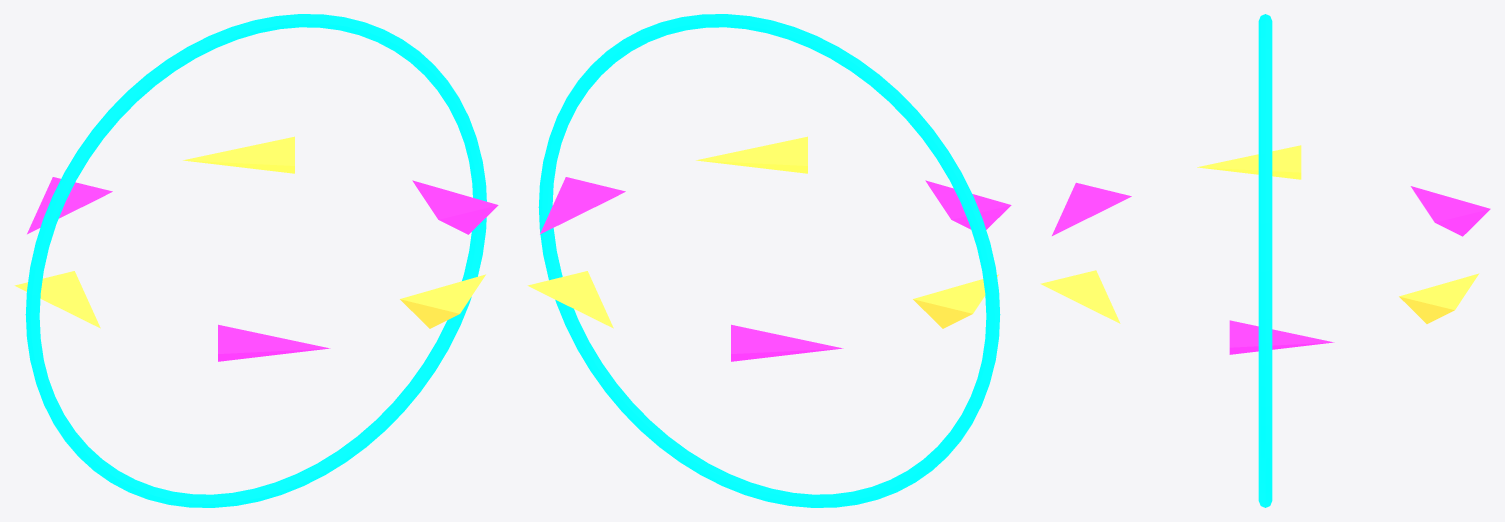
Rendered from orbital_saw_array.glb.
3 views of the same model, side by side, from view 1: azimuth 30°, elevation 25°; view 2: azimuth 150°, elevation 25°; view 3: azimuth 270°, elevation 25° (orthographic). The views are drawn at different scales.
Visible parts, largest first — view 1: OrbitalSawArrayGuideRing, OrbitalSawArrayBlade4, OrbitalSawArrayBlade1, OrbitalSawArrayBlade5, OrbitalSawArrayBlade0, OrbitalSawArrayBlade3, OrbitalSawArrayBlade2; view 2: OrbitalSawArrayGuideRing, OrbitalSawArrayBlade2, OrbitalSawArrayBlade5, OrbitalSawArrayBlade1, OrbitalSawArrayBlade0, OrbitalSawArrayBlade3, OrbitalSawArrayBlade4; view 3: OrbitalSawArrayGuideRing, OrbitalSawArrayBlade2, OrbitalSawArrayBlade1, OrbitalSawArrayBlade4, OrbitalSawArrayBlade5, OrbitalSawArrayBlade0, OrbitalSawArrayBlade3.
Boxes of the visible parts, x1=… form: OrbitalSawArrayGuideRing: x1=25, y1=14, x2=486, y2=507; OrbitalSawArrayBlade4: x1=218, y1=324, x2=330, y2=361; OrbitalSawArrayBlade1: x1=183, y1=136, x2=294, y2=173; OrbitalSawArrayBlade5: x1=400, y1=274, x2=485, y2=328; OrbitalSawArrayBlade0: x1=412, y1=180, x2=498, y2=234; OrbitalSawArrayBlade3: x1=14, y1=271, x2=100, y2=328; OrbitalSawArrayBlade2: x1=27, y1=177, x2=112, y2=234; OrbitalSawArrayGuideRing: x1=538, y1=14, x2=1000, y2=507; OrbitalSawArrayBlade2: x1=731, y1=324, x2=843, y2=361; OrbitalSawArrayBlade5: x1=696, y1=136, x2=807, y2=173; OrbitalSawArrayBlade1: x1=527, y1=271, x2=613, y2=328; OrbitalSawArrayBlade0: x1=540, y1=177, x2=625, y2=234; OrbitalSawArrayBlade3: x1=913, y1=274, x2=998, y2=328; OrbitalSawArrayBlade4: x1=925, y1=180, x2=1011, y2=229; OrbitalSawArrayGuideRing: x1=1258, y1=14, x2=1272, y2=507; OrbitalSawArrayBlade2: x1=1410, y1=186, x2=1490, y2=236; OrbitalSawArrayBlade1: x1=1399, y1=273, x2=1479, y2=323; OrbitalSawArrayBlade4: x1=1052, y1=182, x2=1131, y2=235; OrbitalSawArrayBlade5: x1=1040, y1=270, x2=1120, y2=323; OrbitalSawArrayBlade0: x1=1229, y1=320, x2=1334, y2=354; OrbitalSawArrayBlade3: x1=1197, y1=145, x2=1301, y2=179.
Size of the model in its own units: 1.57 by 1.57 by 1.43.
